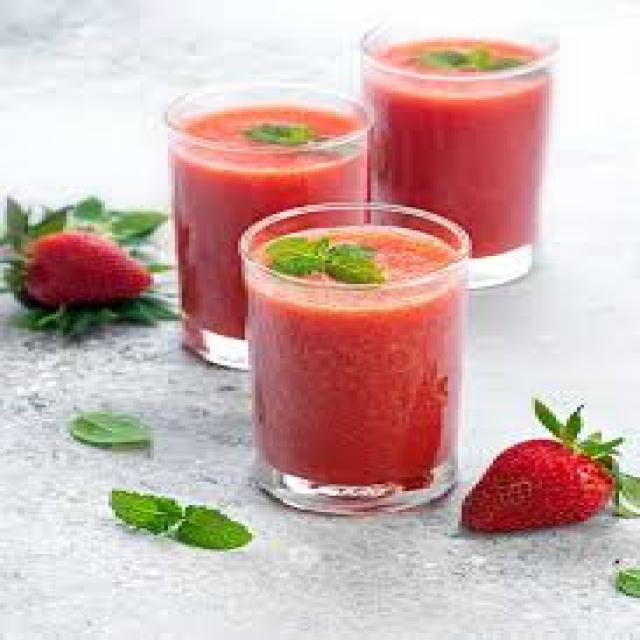strawberry: (445, 411, 625, 537), (11, 212, 178, 320)
